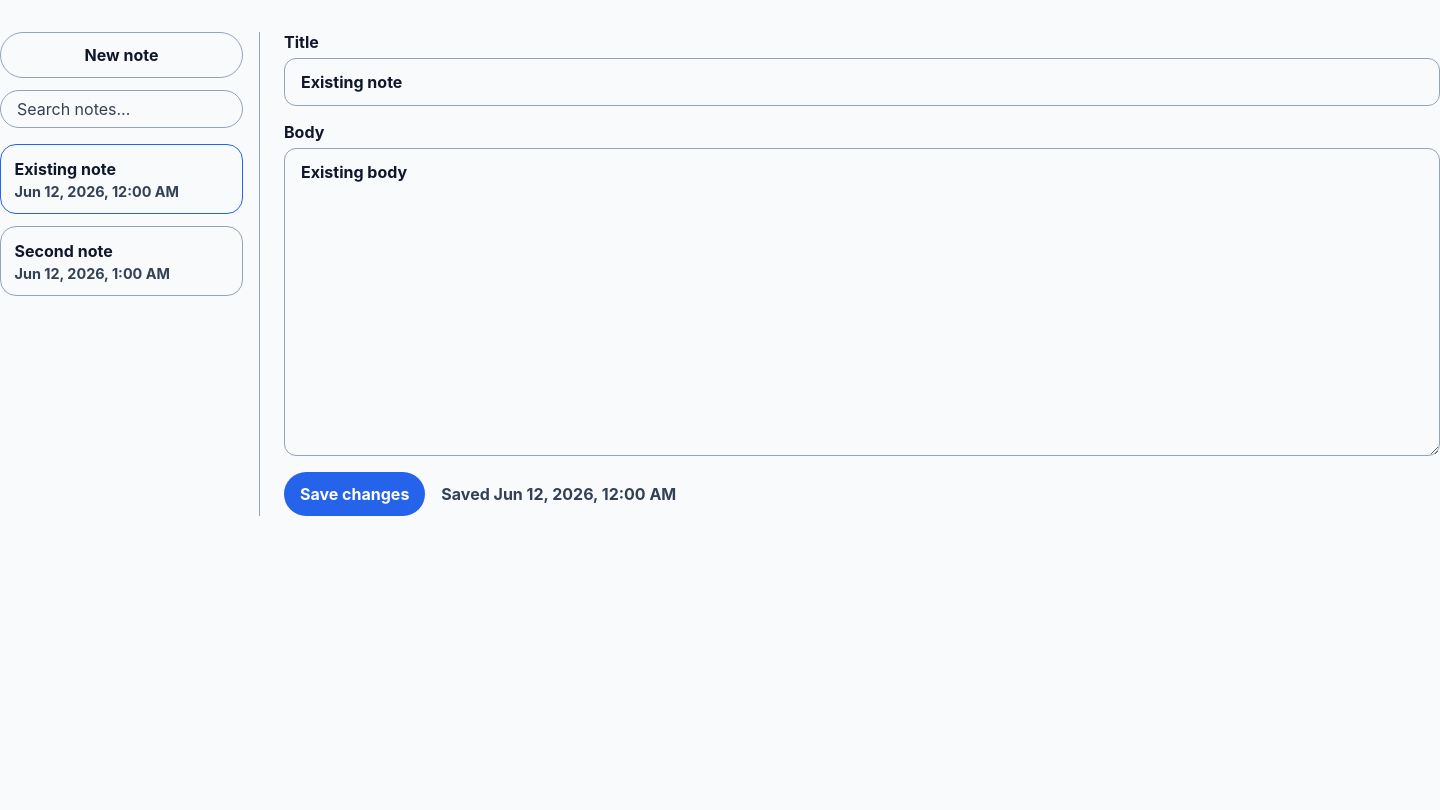
Test: NoteEditor › unsaved changes guard › shows discard dialog when switching notes with unsaved changes
Type " modified" into the field labelled "Title". click: (862, 82)
box: [284,58,1439,106]
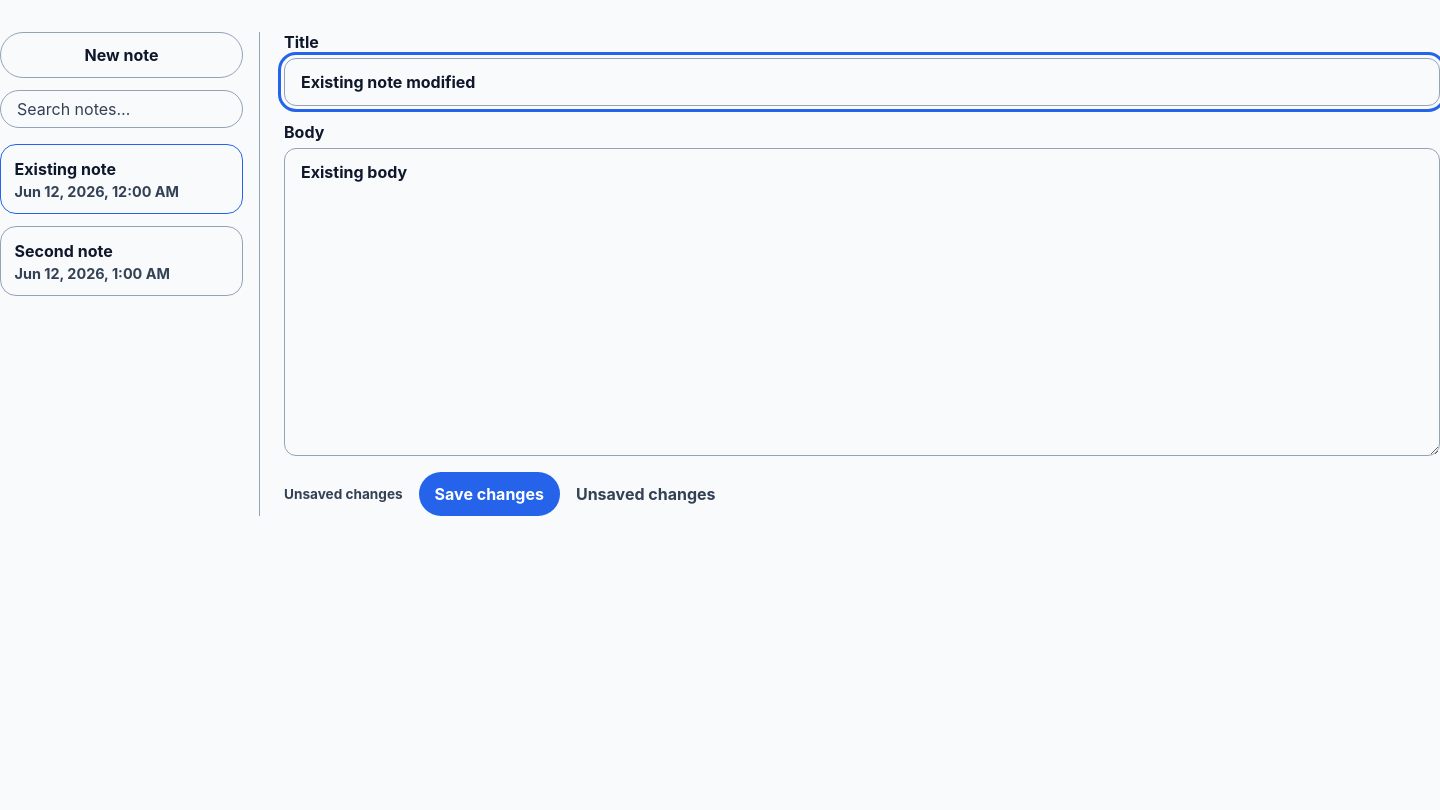
Click on second note while dirty
Click the text "Second note". click: (64, 251)
box: [15,241,113,261]
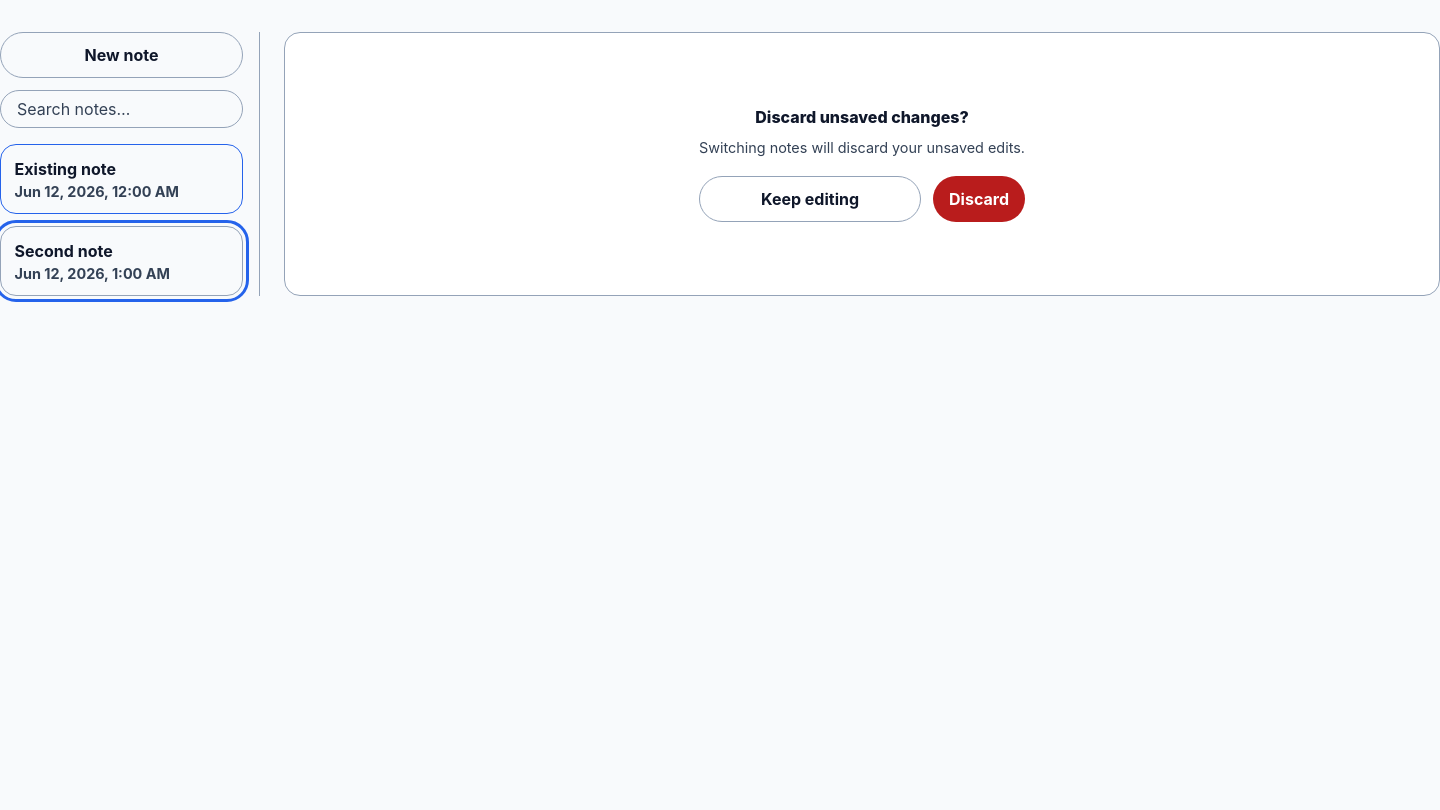
Expected: the dialog is shown, [284,32,1439,296]
Expected: the text "Discard unsaved changes?" is shown, [755,107,969,127]
